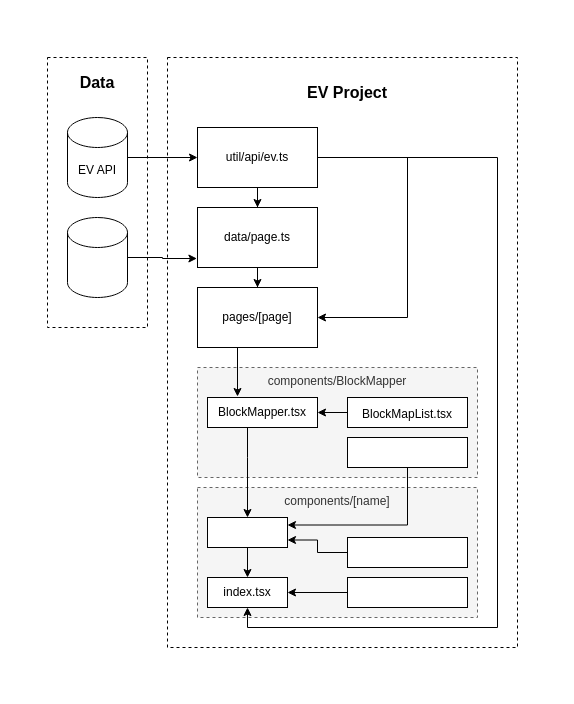
This 574x704 diagram has some shape labels left out. Each missing label, with the centre of its shape:
"_map.tsx" belongs at pixel 247 532.
"BlockMapProps.tsx" belongs at pixel 407 452.
"CMS" belongs at pixel 97 257.
"styles.tsx" belongs at pixel 407 592.
"test.data.tsx" belongs at pixel 407 552.
